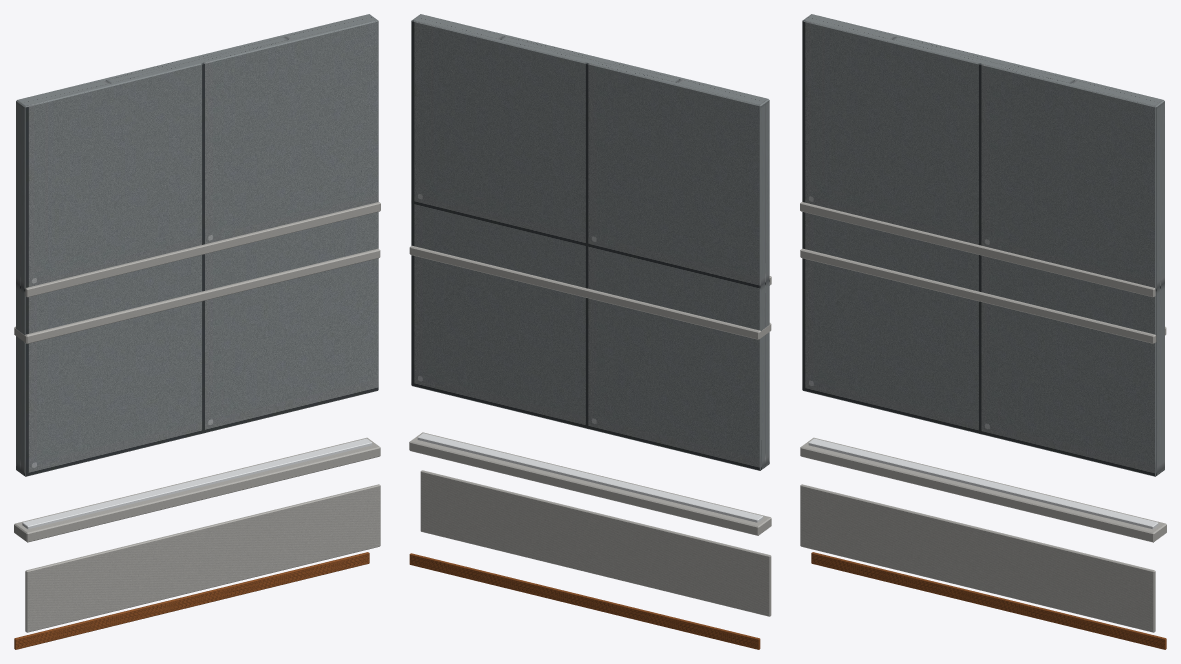
File: japanese-school-and-city-street-corridor-window-wall-a7fe398b__30050.glb
The picture shows the model from 3 angles, left to right: view 1: azimuth 30°, elevation 25°; view 2: azimuth 150°, elevation 25°; view 3: azimuth 330°, elevation 25°; orthographic projection.
Visible parts, largest first — view 1: corridor-window-wall; view 2: corridor-window-wall; view 3: corridor-window-wall.
Boxes of the visible parts, x1,y1,x2,y2 form: corridor-window-wall: (14,14,380,649); corridor-window-wall: (409,14,771,649); corridor-window-wall: (800,14,1166,649).
Bounding box in the file's own units: 3 × 4.46 × 0.2.
5 materials, 3 textured.
